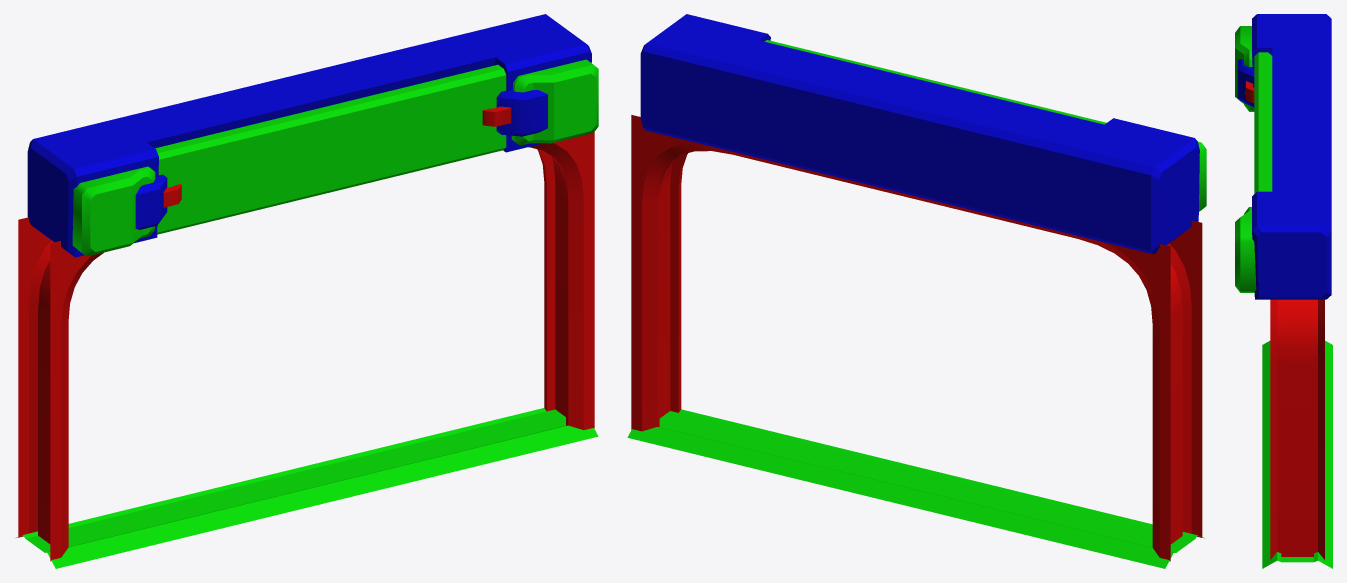
The model's file is SM_ScifiDoor01.fbx.
3 views of the same model, side by side, from view 1: azimuth 30°, elevation 25°; view 2: azimuth 150°, elevation 25°; view 3: azimuth 270°, elevation 25° (orthographic). The views are drawn at different scales.
Parts seen in each view (by area): view 1: DoorFrame; view 2: DoorFrame; view 3: DoorFrame.
Part boxes in pixels (bbox=[...]): DoorFrame: bbox=[15, 14, 598, 568]; DoorFrame: bbox=[627, 14, 1206, 568]; DoorFrame: bbox=[1235, 14, 1332, 568].
Bounding box in the file's own units: 2600 × 1820 × 478.
